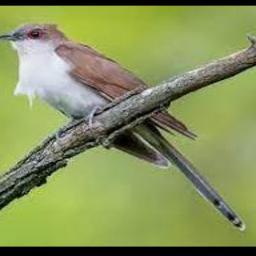Cuckoo: (0, 21, 247, 231)
